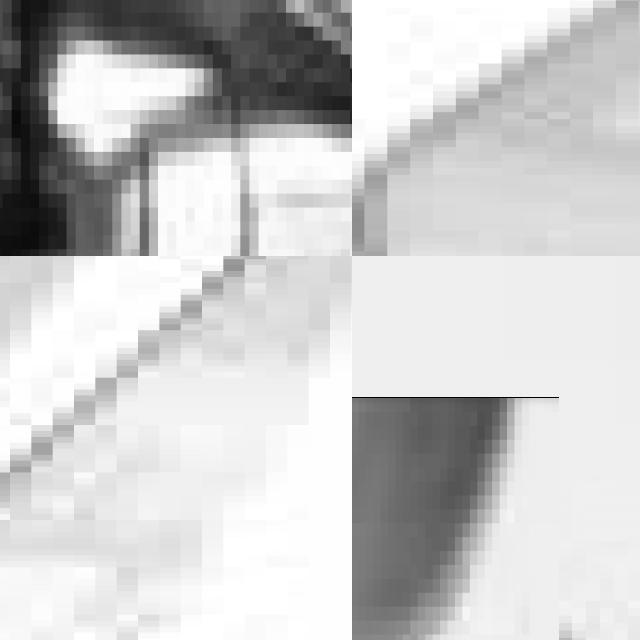spoons: (0, 0, 352, 256), (352, 424, 587, 640)
